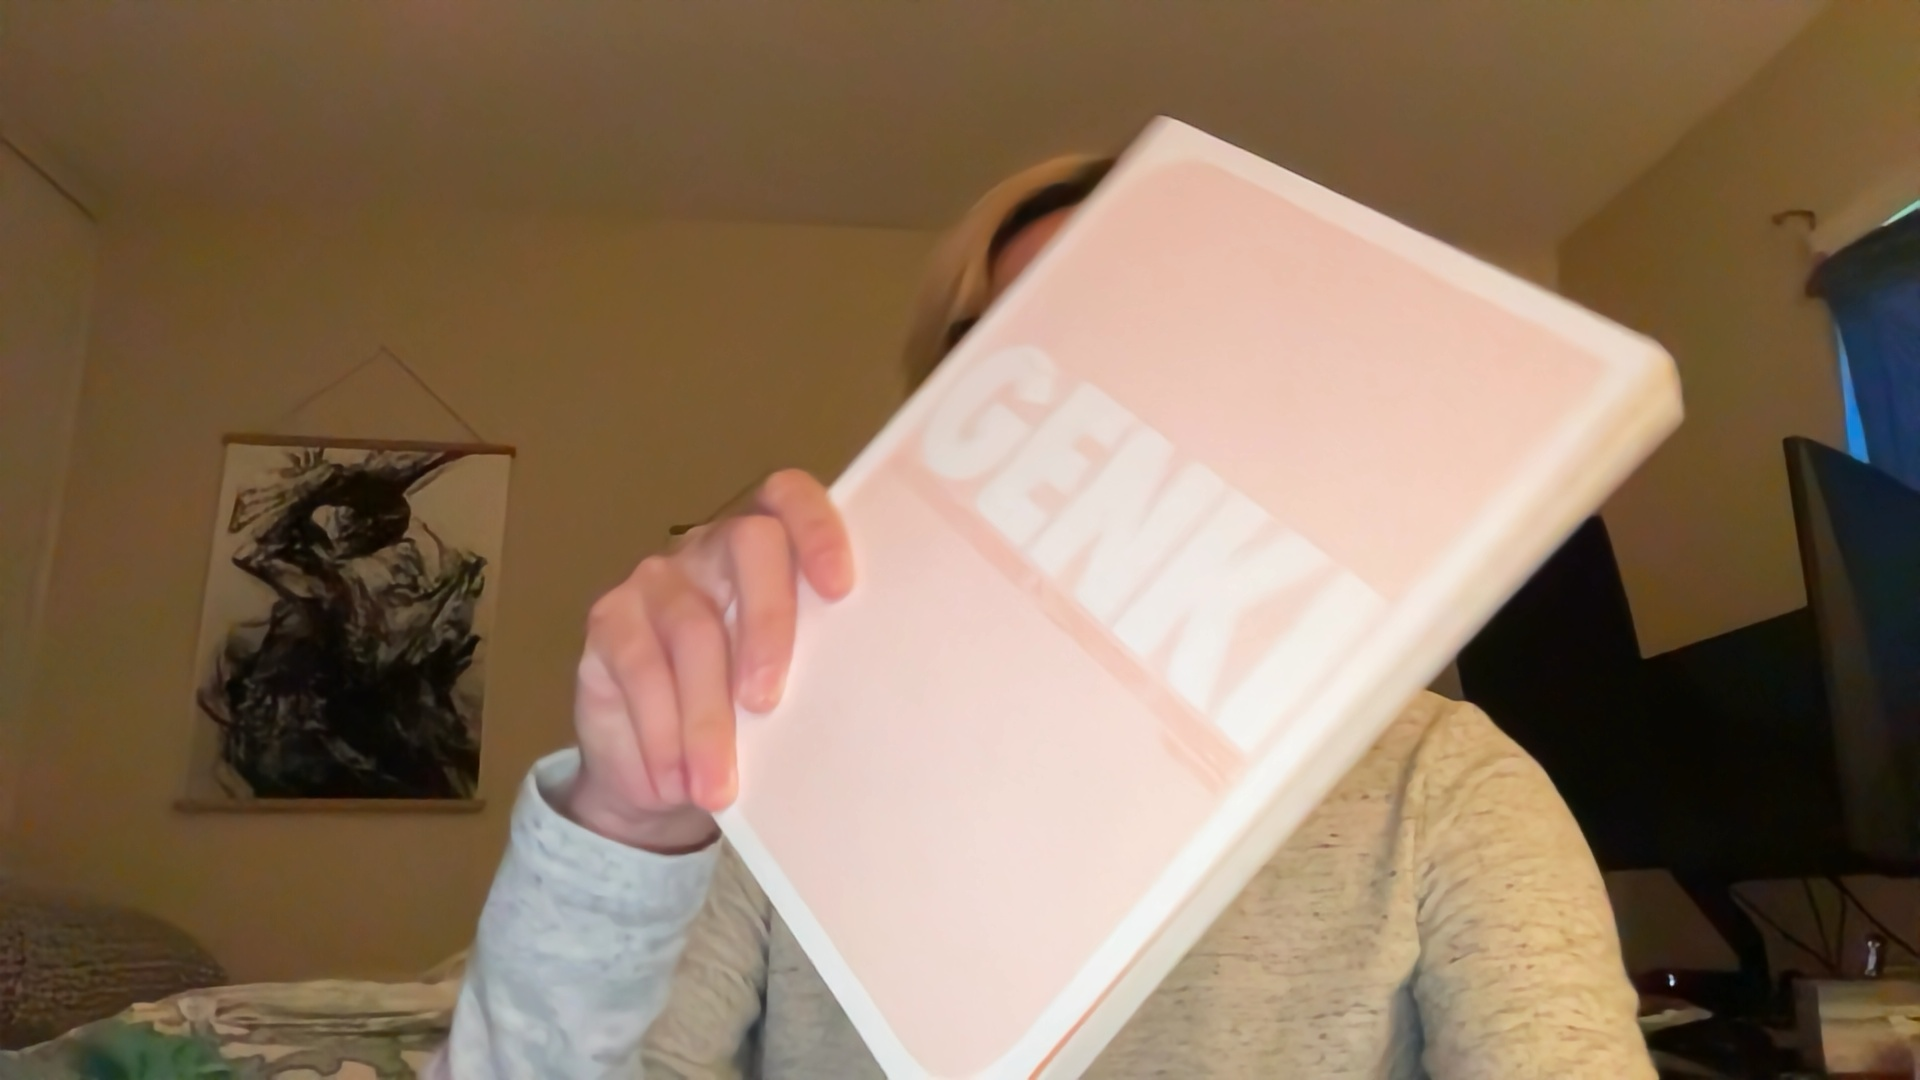book: (692, 108, 1691, 1080)
